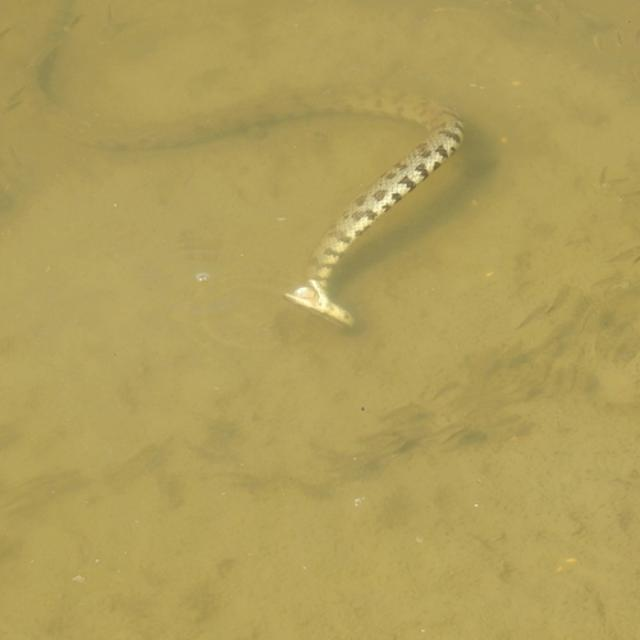snake: (24, 0, 476, 342)
